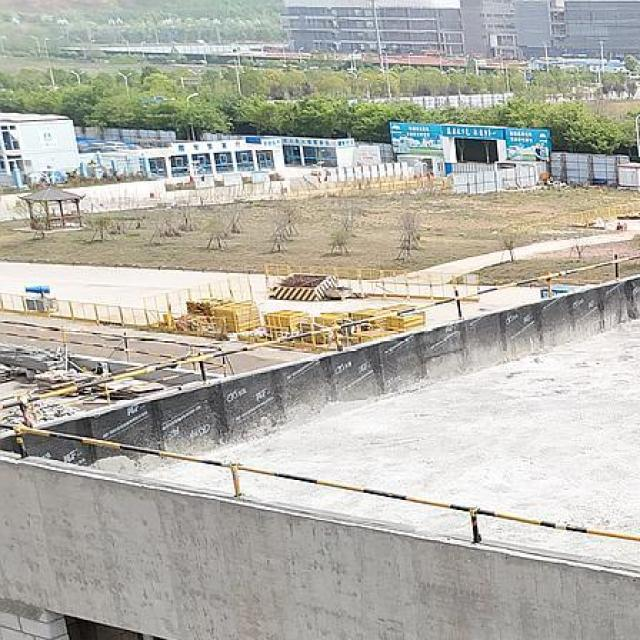Guardrail: (0, 252, 640, 544), (0, 320, 226, 401)
